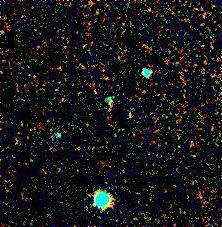star: (80, 190, 110, 220)
